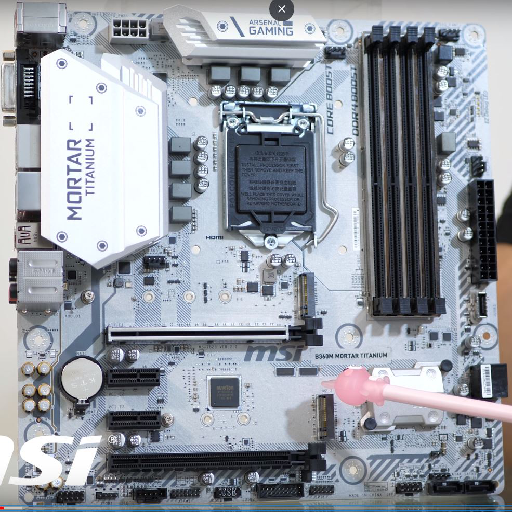CPU: (216, 101, 324, 251)
GPU: (103, 443, 330, 474), (103, 321, 326, 352)
MOTHERBOARD: (5, 2, 505, 510)
RAM: (356, 26, 456, 321)
SSD: (314, 393, 339, 449), (294, 271, 316, 321)
